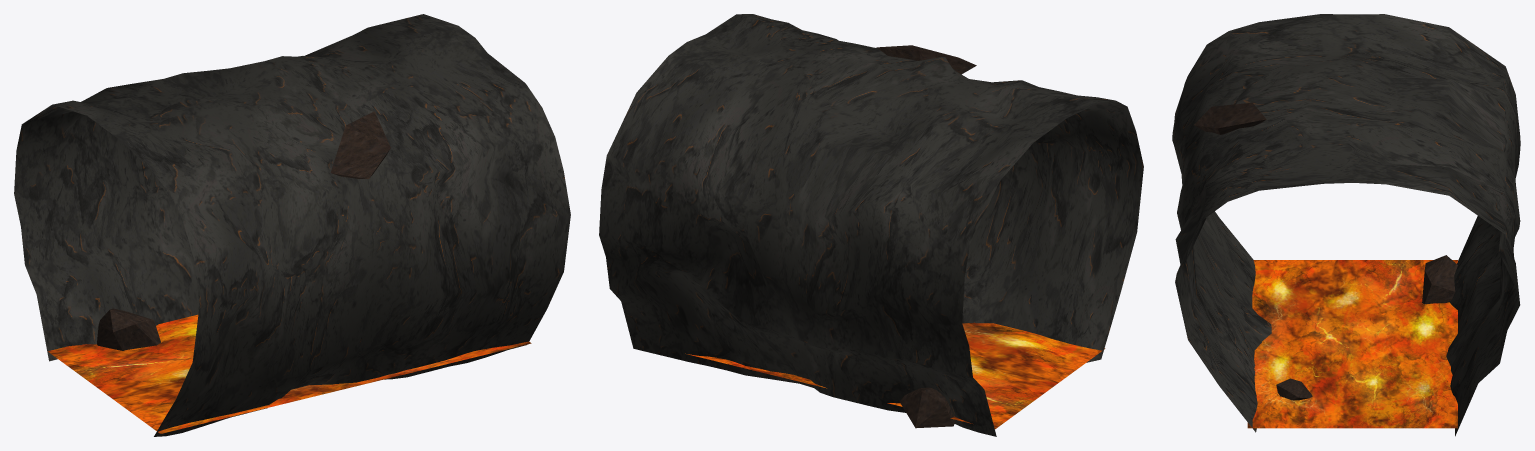
The model's file is Grot_1.fbx.
3 renders of one model, left to right at view 1: azimuth 30°, elevation 25°; view 2: azimuth 150°, elevation 25°; view 3: azimuth 270°, elevation 25°, orthographic. The views are drawn at different scales.
Parts seen in each view (by area): view 1: Plane, Lava, Platonic, Platonic_1; view 2: Plane, Lava, Platonic_1, Platonic; view 3: Plane, Lava, Platonic, Platonic_1, Platonic_2.
Part boxes in pixels (x1=…): Plane: x1=14, y1=14, x2=570, y2=436; Lava: x1=48, y1=314, x2=531, y2=433; Platonic: x1=330, y1=111, x2=390, y2=178; Platonic_1: x1=97, y1=308, x2=160, y2=350; Plane: x1=599, y1=14, x2=1143, y2=436; Lava: x1=685, y1=322, x2=1105, y2=429; Platonic_1: x1=899, y1=387, x2=955, y2=428; Platonic: x1=876, y1=45, x2=976, y2=74; Plane: x1=1172, y1=14, x2=1520, y2=436; Lava: x1=1247, y1=260, x2=1457, y2=428; Platonic: x1=1194, y1=102, x2=1266, y2=134; Platonic_1: x1=1422, y1=255, x2=1457, y2=304; Platonic_2: x1=1276, y1=378, x2=1312, y2=400.
Size of the model in its own units: 764 by 547 by 663.
3 materials, 2 textured.
